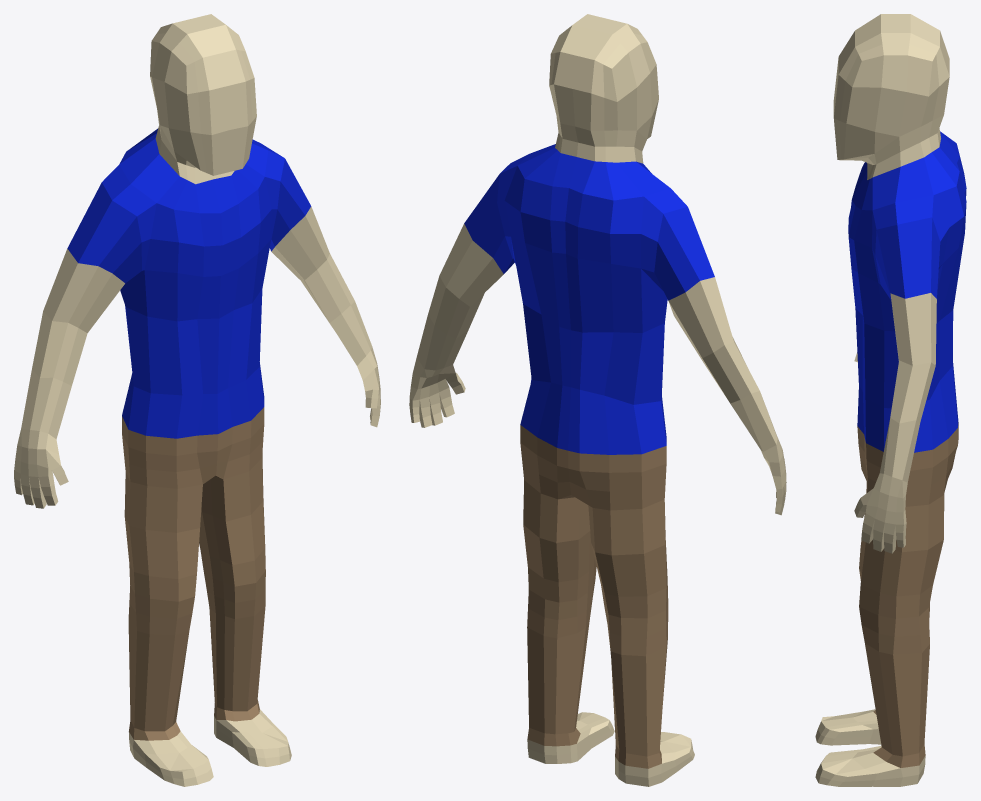
The model's file is Human.gltf.
3 renders of one model, left to right at view 1: azimuth 30°, elevation 25°; view 2: azimuth 150°, elevation 25°; view 3: azimuth 270°, elevation 25°, orthographic. The views are drawn at different scales.
Visible parts, largest first — view 1: Cube; view 2: Cube; view 3: Cube.
Boxes of the visible parts, x1,y1,x2,y2 form: Cube: (14, 14, 380, 786); Cube: (409, 14, 786, 786); Cube: (815, 14, 966, 786).
Bounding box in the file's own units: 3.99 × 7.58 × 1.41.
